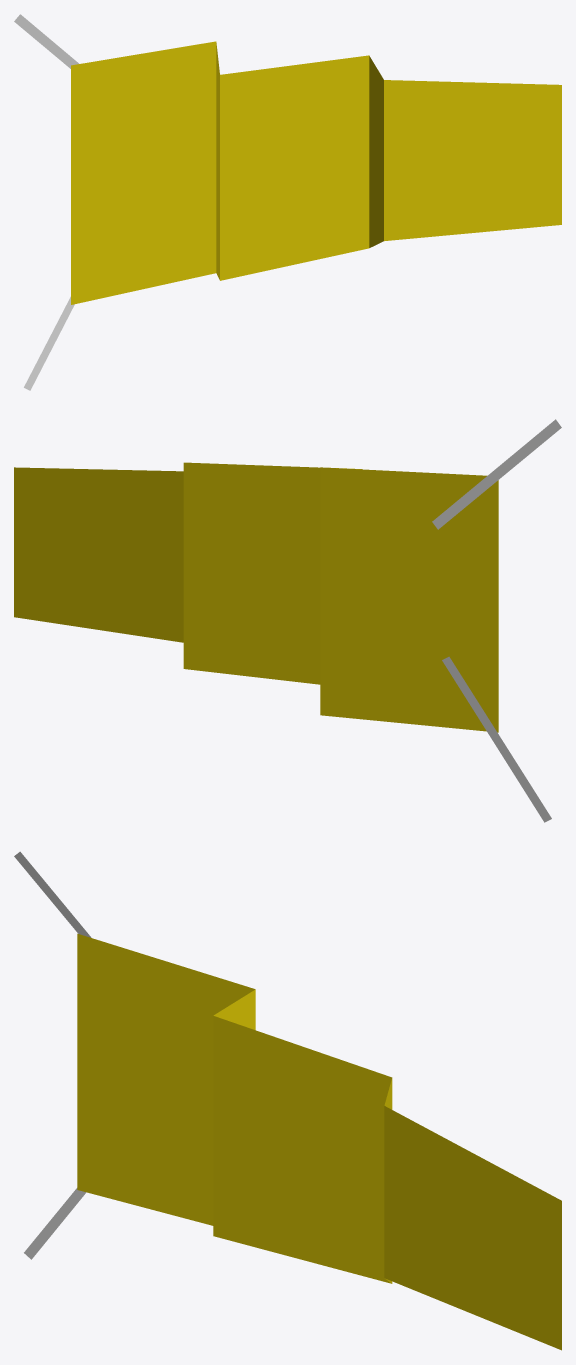
File: Flag_Yellow.fbx
3 views of the same model, one above another, from view 1: azimuth 30°, elevation 25°; view 2: azimuth 150°, elevation 25°; view 3: azimuth 330°, elevation 25° (orthographic). The views are drawn at different scales.
Visible parts, largest first — view 1: Flag_Yellow; view 2: Flag_Yellow; view 3: Flag_Yellow.
Part boxes in pixels (<box>): Flag_Yellow: <box>14,14,561,390</box>; Flag_Yellow: <box>14,419,561,822</box>; Flag_Yellow: <box>14,851,561,1350</box>.
Size of the model in its own units: 110 by 75.05 by 10.64.
